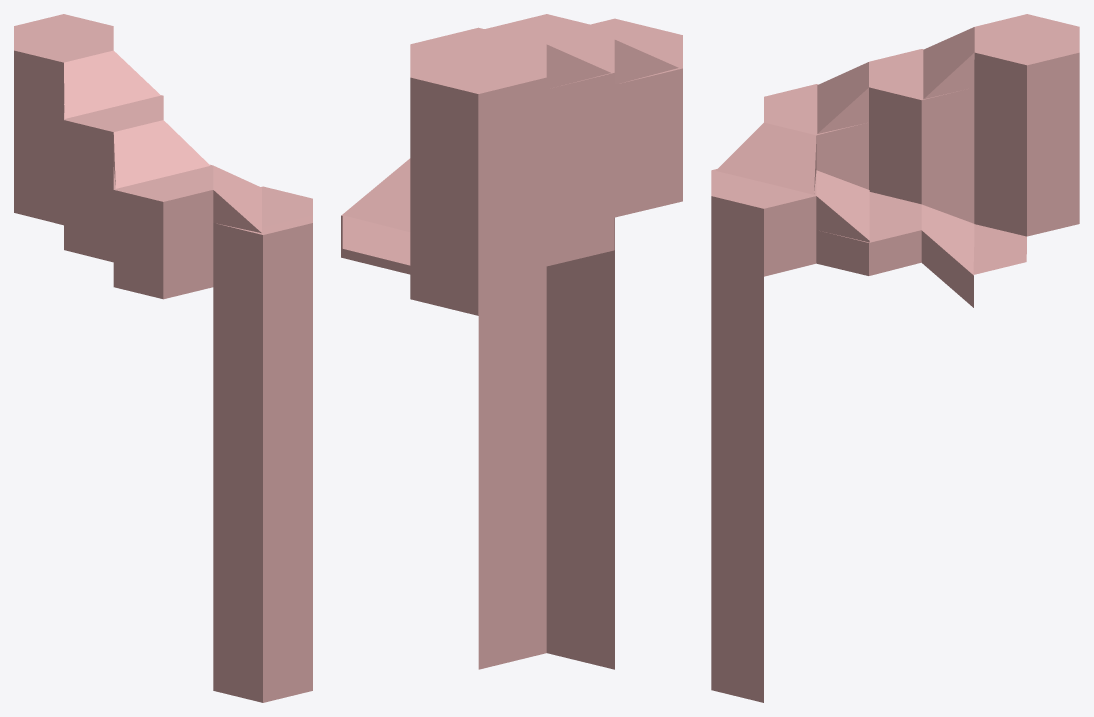
Rendered from level03_stairs.fbx.
The picture shows the model from 3 angles, left to right: view 1: azimuth 30°, elevation 25°; view 2: azimuth 150°, elevation 25°; view 3: azimuth 270°, elevation 25°; orthographic projection. The views are drawn at different scales.
Parts seen in each view (by area): view 1: level03_stairs; view 2: level03_stairs; view 3: level03_stairs.
Part boxes in pixels (bbox=[...]): level03_stairs: bbox=[14, 14, 312, 702]; level03_stairs: bbox=[341, 14, 682, 669]; level03_stairs: bbox=[711, 14, 1079, 702].
Size of the model in its own units: 678 by 2093 by 1167.
